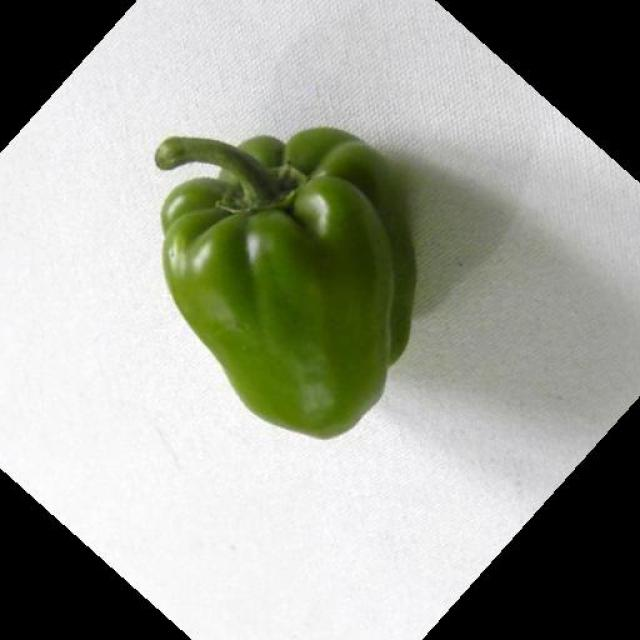Fresh_Capsicum: (149, 125, 433, 446)
